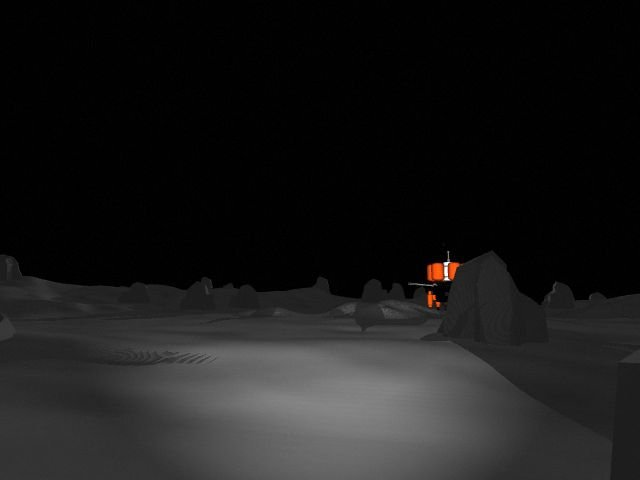homebase: (396, 240, 497, 313)
